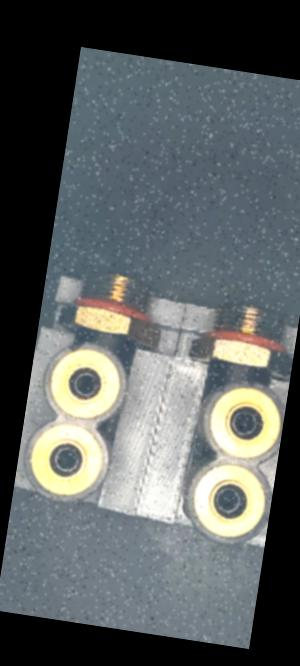bump: (62, 341, 86, 358), (211, 383, 230, 400), (241, 377, 262, 392)
